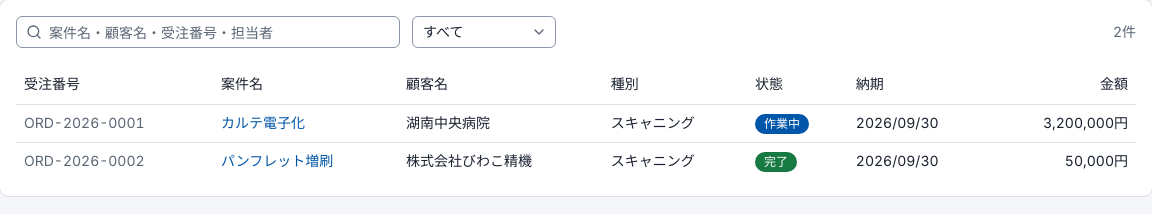
Test case: OrderTable › キーワードで絞り込む
Type "病院" into the field named "キーワード検索" at {"x": 208, "y": 32}, box [16,16,400,48]
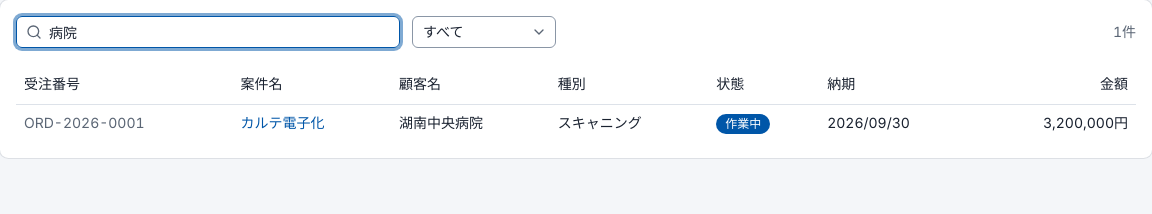
Now the text "1件" is shown, box [1113,22,1136,42]
Now the link "パンフレット増刷" is gone
